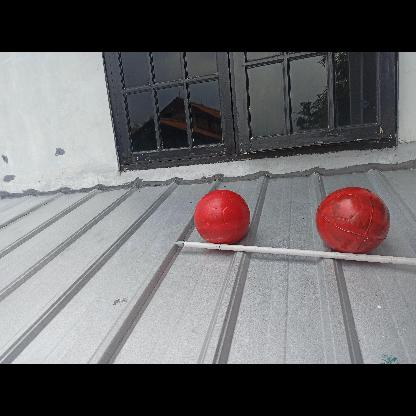red_ball: (313, 184, 387, 258), (192, 188, 248, 243)
